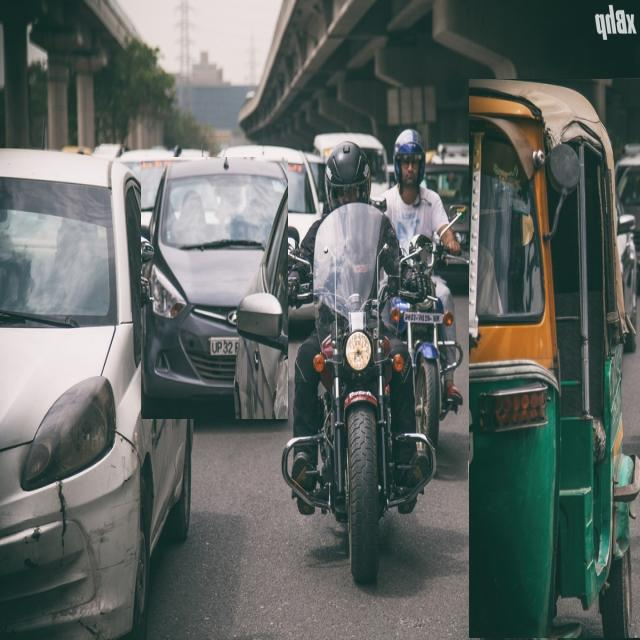autorickshaw: (469, 79, 640, 638)
car: (0, 150, 195, 639), (141, 157, 288, 419), (243, 266, 279, 319)
motorcycle: (281, 142, 434, 583)
